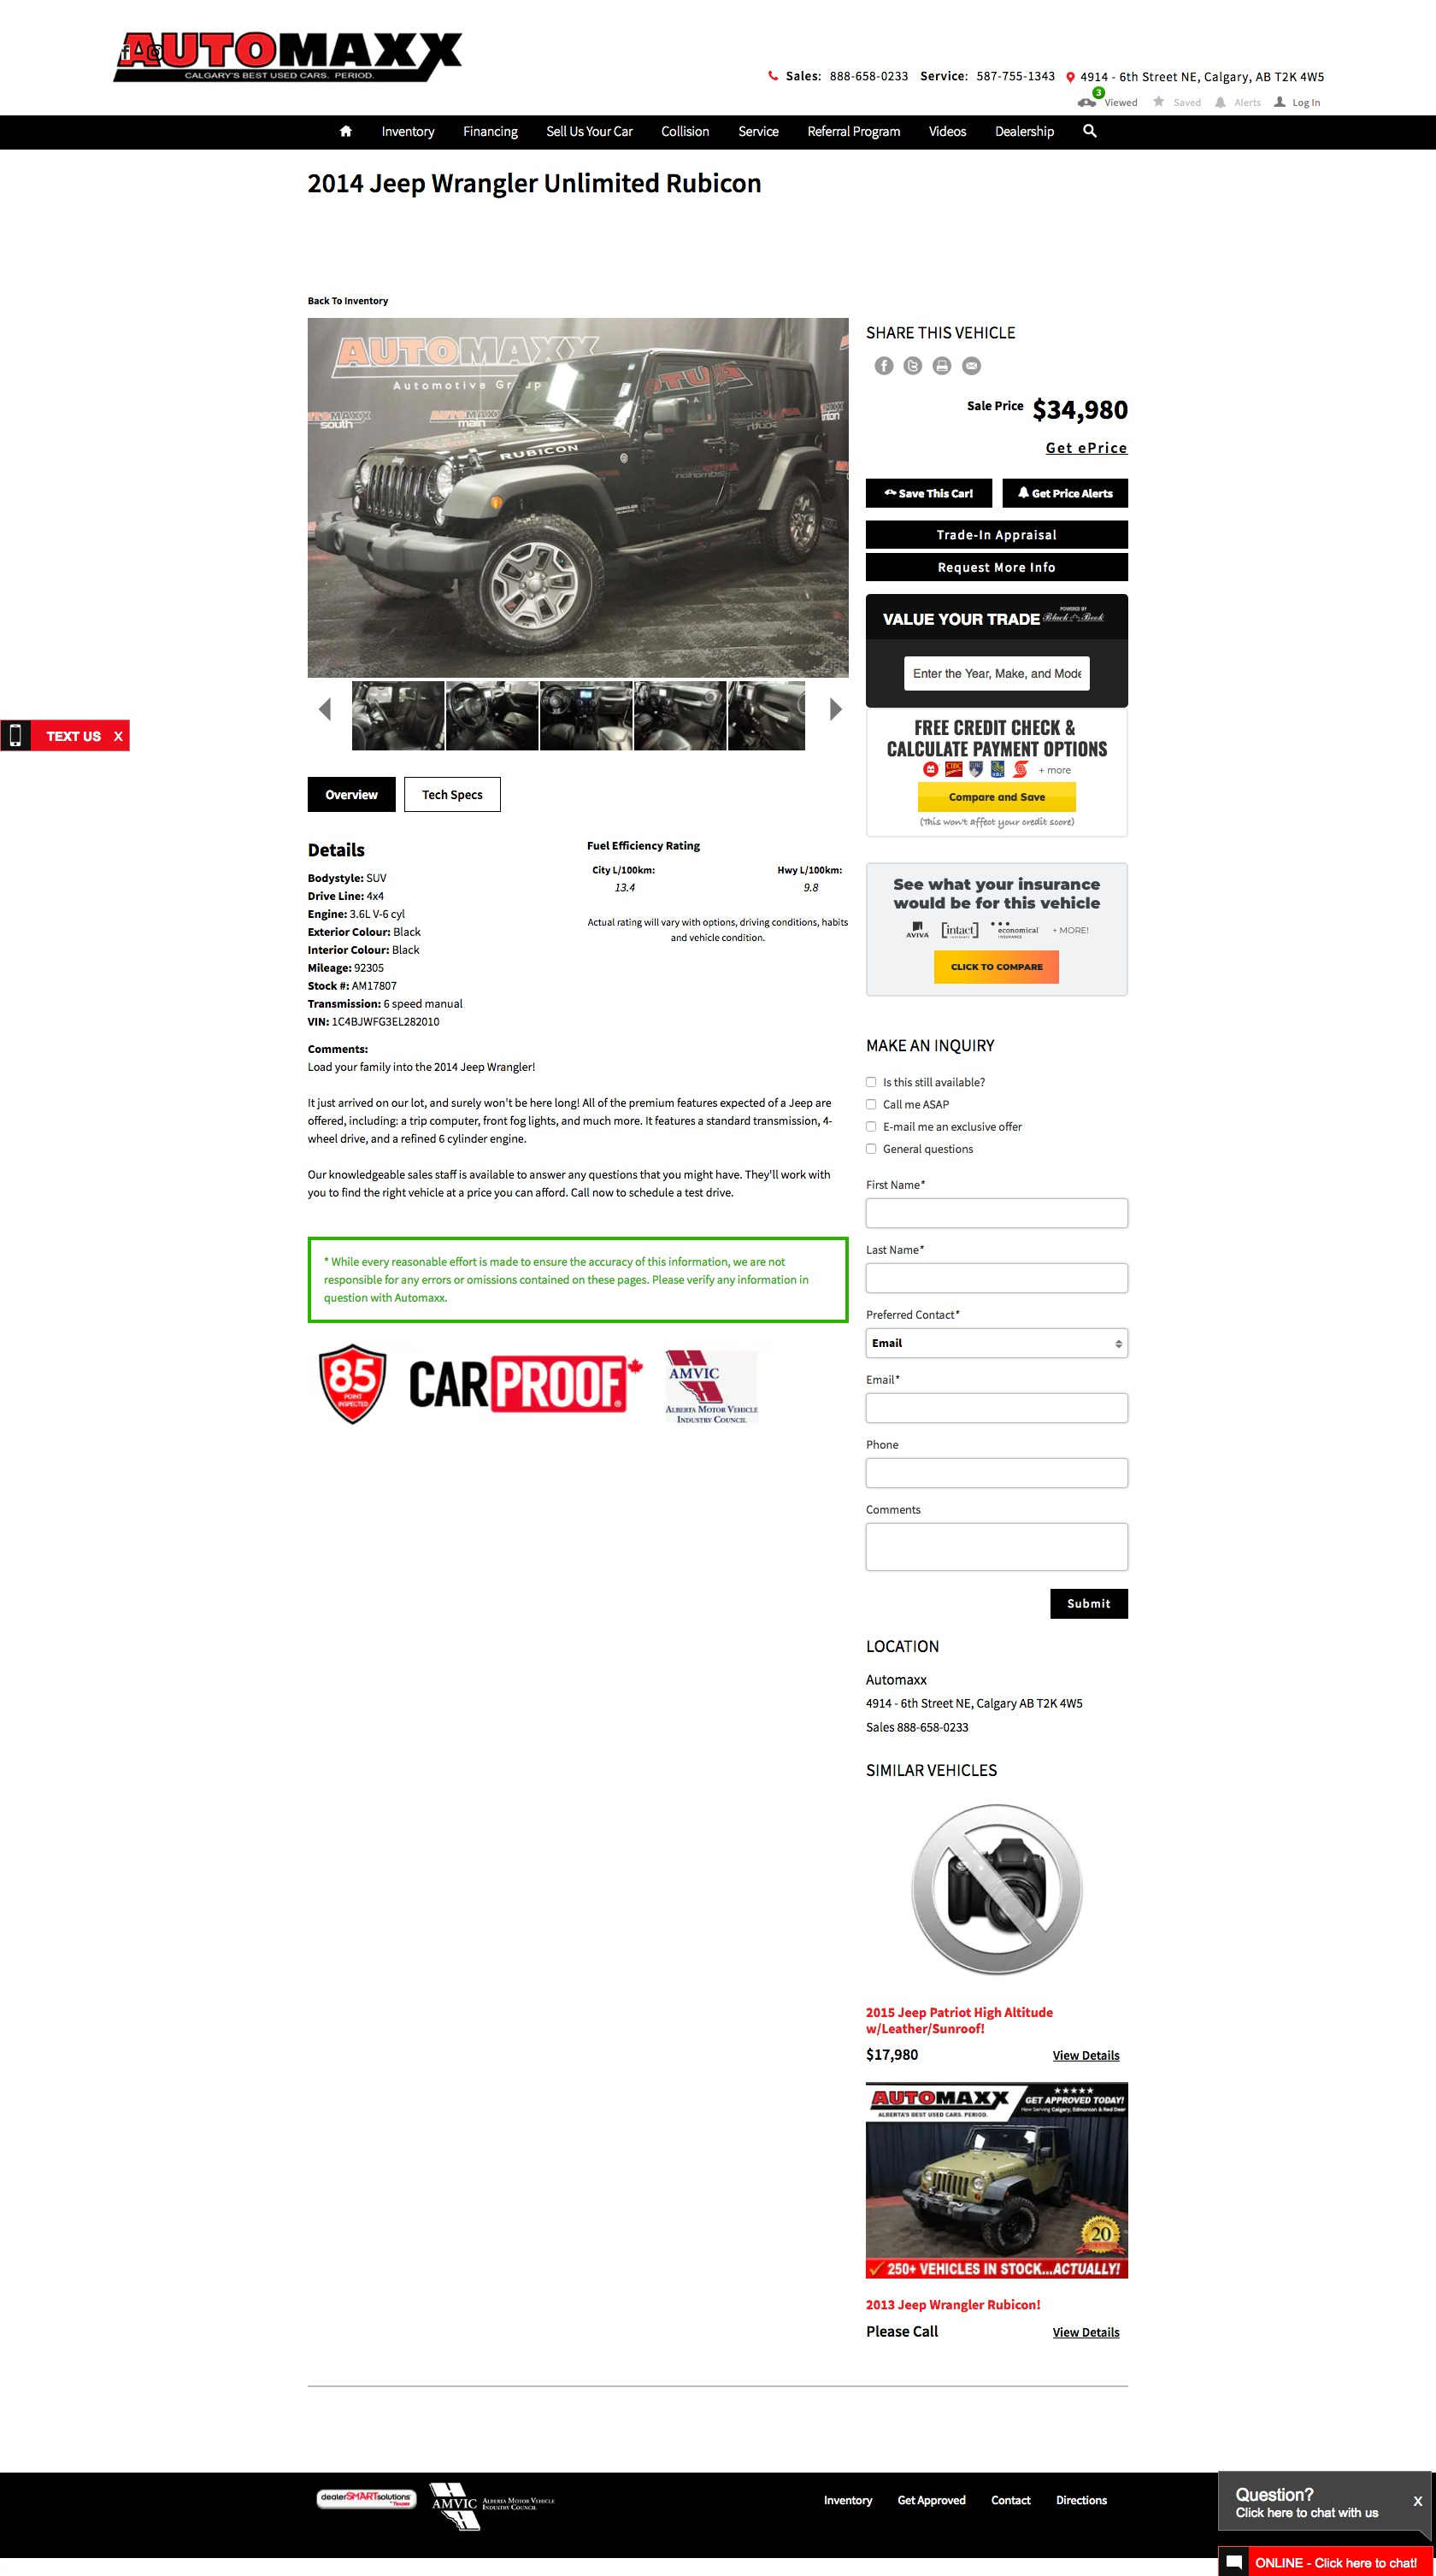car: (829, 697, 844, 723)
